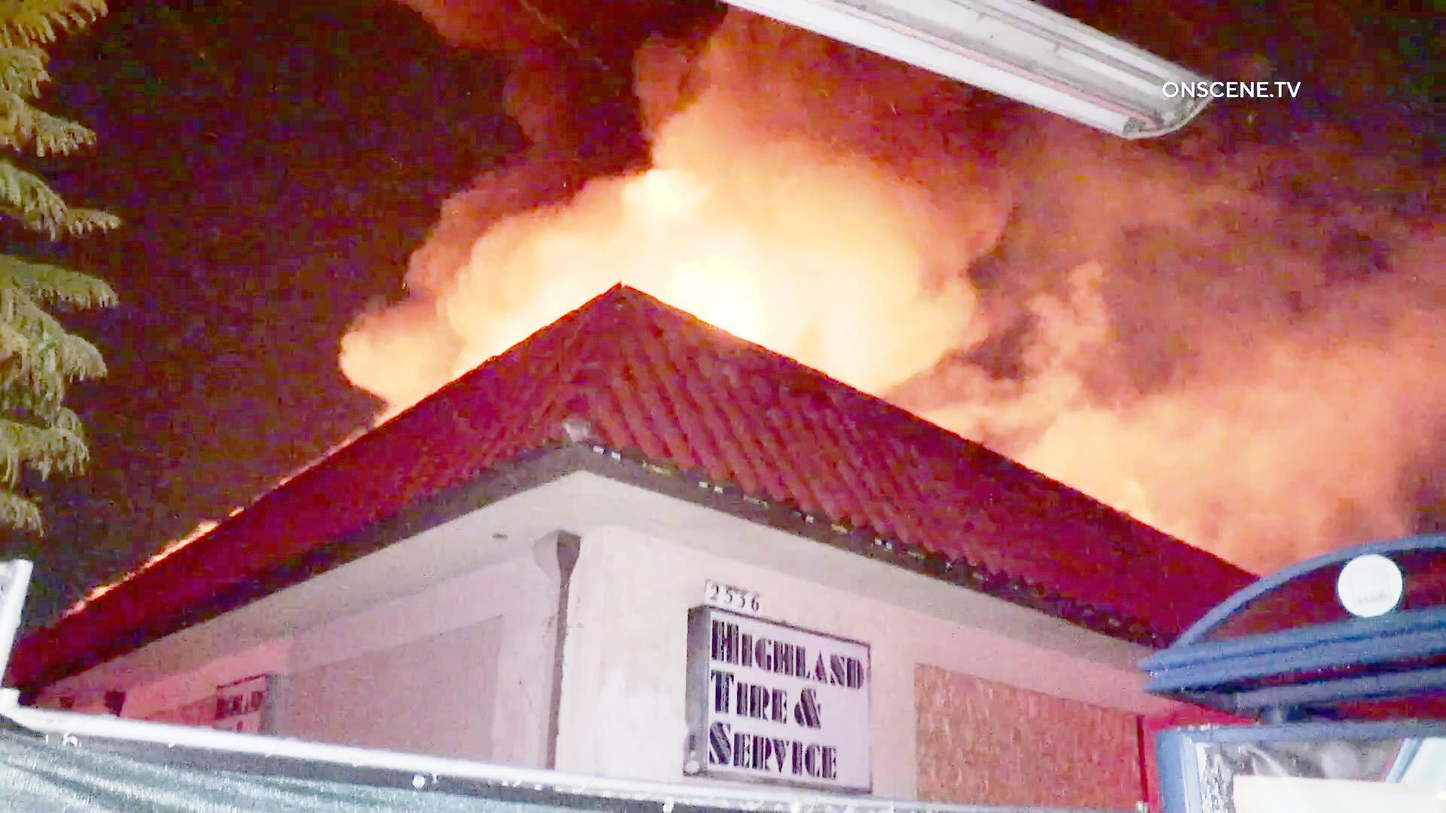fire: (680, 258, 752, 326)
smoke: (1059, 168, 1440, 499)
